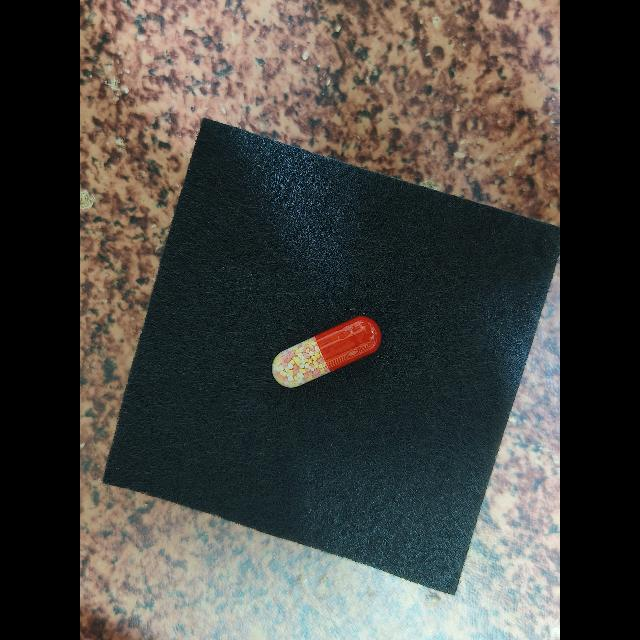Intact Capsule: (272, 316, 381, 388)
